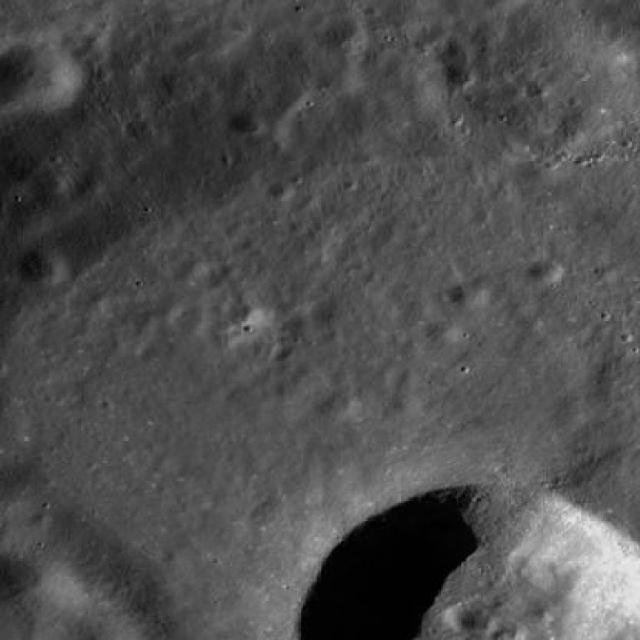crater: (446, 0, 640, 152), (0, 38, 82, 114), (15, 249, 66, 288), (321, 17, 368, 54), (552, 398, 590, 428), (318, 391, 356, 420), (319, 68, 356, 97), (448, 282, 486, 310), (526, 258, 562, 286), (424, 320, 459, 348), (275, 84, 308, 108), (229, 112, 260, 136), (178, 256, 206, 278), (518, 316, 544, 336), (531, 602, 557, 622), (268, 181, 292, 201), (0, 0, 3, 3), (0, 1, 2, 2)
